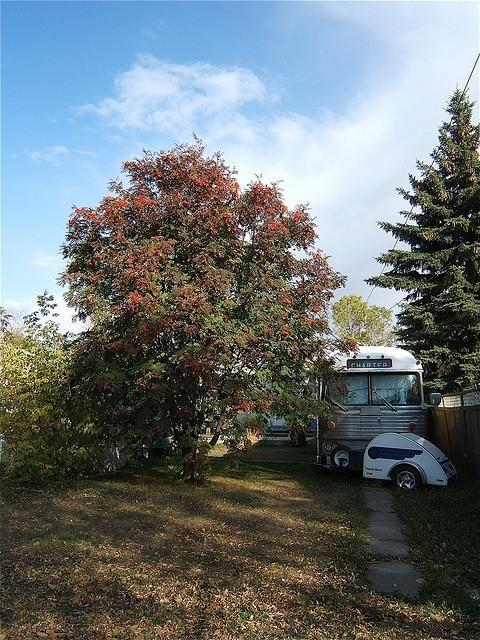bus: (320, 346, 436, 466)
car: (362, 432, 457, 492)
